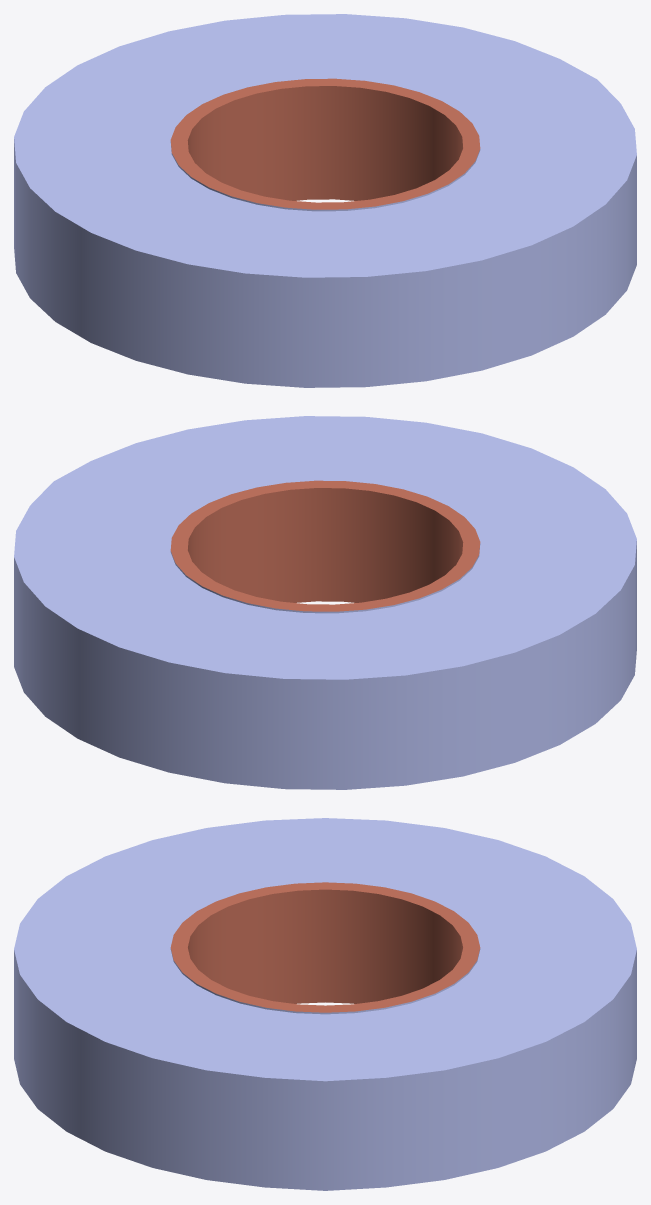
Rendered from cinta.fbx.
The picture shows the model from 3 angles, top to bottom: view 1: azimuth 30°, elevation 25°; view 2: azimuth 150°, elevation 25°; view 3: azimuth 270°, elevation 25°; orthographic projection.
Visible parts, largest first — view 1: Circle.001; view 2: Circle.001; view 3: Circle.001.
Part boxes in pixels (x1,y1,x2,y2): Circle.001: [14, 14, 636, 387]; Circle.001: [14, 416, 636, 789]; Circle.001: [14, 818, 636, 1190].
Size of the model in its own units: 10 by 2 by 10.
